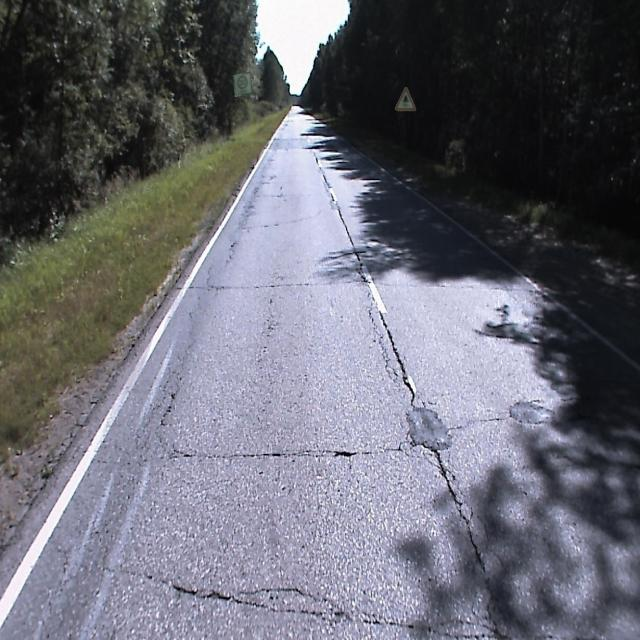road: (0, 105, 639, 639)
